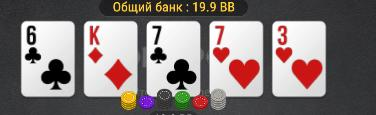3h: (273, 22, 325, 93)
6c: (22, 22, 73, 96)
7c: (148, 22, 200, 95)
7h: (211, 22, 262, 95)
Kd: (85, 23, 136, 95)
